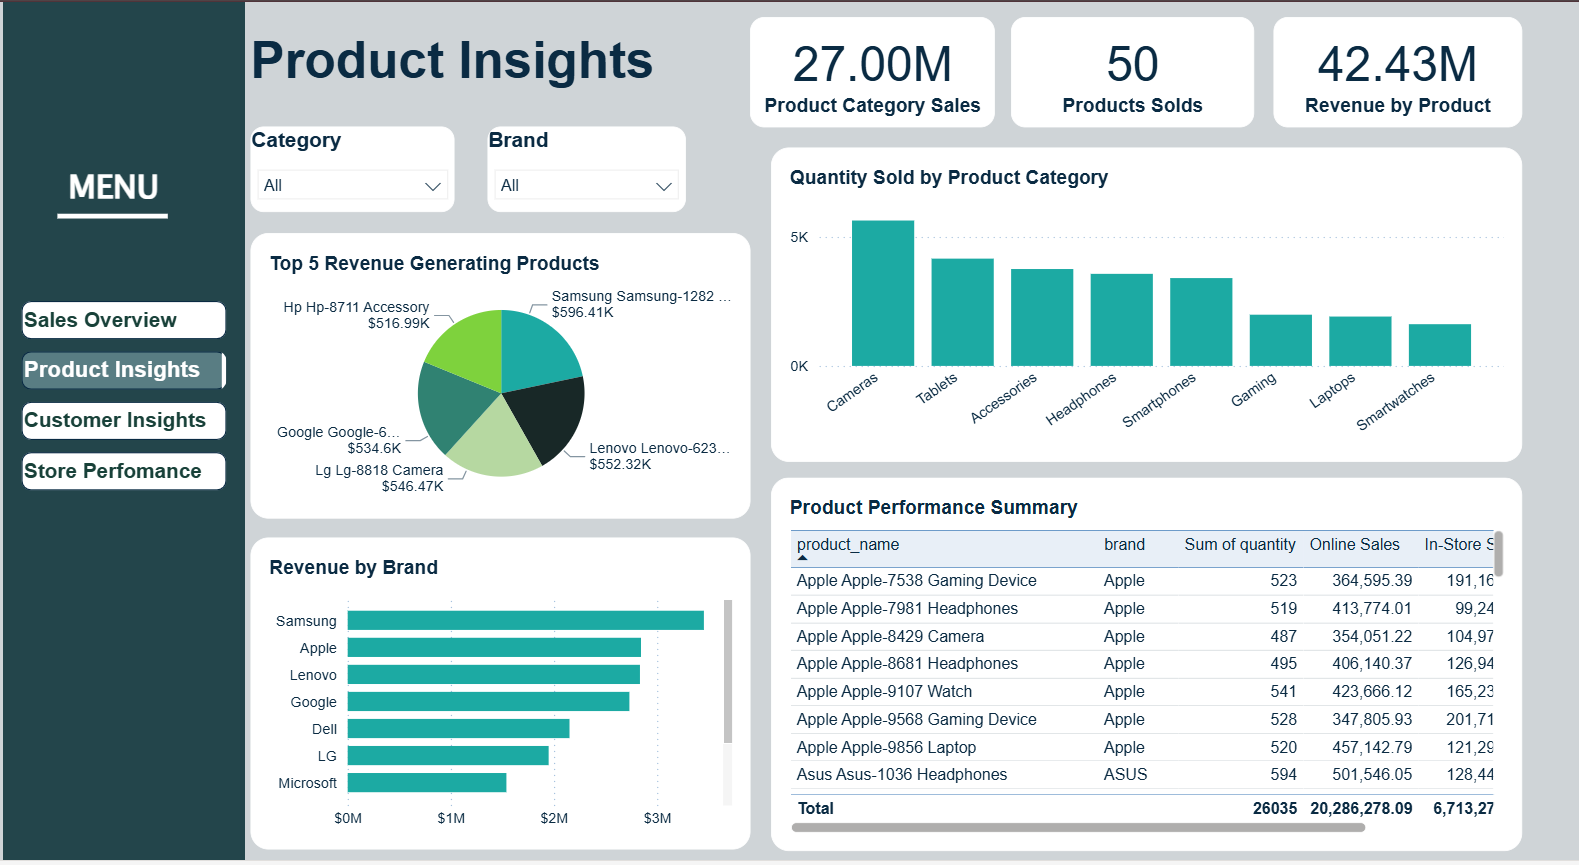

Layout of this report page (visuals, bound fields, positions):
{"tool":"powerbi","page":{"name":"Product Insights","canvas":[1280,720],"ordinal":1},"visuals":[{"type":"textbox","box":[0,0,201.3,720.5],"z":0,"group":"g1"},{"type":"tableEx","title":"Product Performance Summary","fields":{"Values":["Product.product_name","Product.brand","Sum(Sales.quantity)","Customer.Online Sales","Customer.In-Store Sales","Customer.Total Sales"]},"box":[639.7,396.4,626.1,311.4],"z":0},{"type":"barChart","title":"Revenue by Brand","fields":{"Category":["Product.brand"],"Y":["Sum(Sales.Revenue)"]},"box":[205.9,445.8,416.8,260.3],"z":1000},{"type":"columnChart","title":"Quantity Sold by Product Category","fields":{"Category":["Product.category"],"Y":["Sum(Sales.quantity)"]},"box":[639.7,120.8,626.1,262],"z":2000},{"type":"pieChart","title":"Top 5 Revenue Generating Products","fields":{"Y":["Sum(Sales.Revenue)"],"Category":["Product.product_name"]},"box":[205.9,192.3,416.8,238.2],"z":3000},{"type":"slicer","title":"Category","fields":{"Values":["Product.category"]},"box":[205.9,103.8,170.1,71.5],"z":4000},{"type":"slicer","title":"Brand","fields":{"Values":["Product.brand"]},"box":[403.2,103.8,165,71.5],"z":5000},{"type":"card","fields":{"Values":["Customer.Products Solds"]},"box":[839.9,12.9,202.8,92],"z":6000},{"type":"card","fields":{"Values":["Customer.Revenue by Product"]},"box":[1058.5,12.9,207.1,92],"z":7000},{"type":"card","fields":{"Values":["Customer.Product Category Sales"]},"box":[622.7,12.9,204.2,92],"z":8000},{"type":"textbox","box":[205.9,23.8,338.6,80],"z":9000},{"type":"group","id":"g1","title":"Group 1","box":[0,0,201.3,720.5],"z":10000},{"type":"shape","box":[30.2,139.5,122.2,76.2],"z":11000},{"type":"pageNavigator","box":[0,233.8,201.3,189.2],"z":11000,"group":"g1"},{"type":"textbox","box":[18.7,133.9,146.7,55.3],"z":12000,"group":"g1"}]}

Visuals, with their boxes in screenshot pixels (x1, y1, x2, y2), scaled from the page's 1280x720 canvas onto the 1579x865 screenshot:
textbox: (left=0, top=0, right=248, bottom=864)
"Product Performance Summary" tableEx: (left=789, top=476, right=1561, bottom=850)
"Revenue by Brand" barChart: (left=254, top=536, right=768, bottom=848)
"Quantity Sold by Product Category" columnChart: (left=789, top=145, right=1561, bottom=460)
"Top 5 Revenue Generating Products" pieChart: (left=254, top=231, right=768, bottom=517)
"Category" slicer: (left=254, top=125, right=464, bottom=211)
"Brand" slicer: (left=497, top=125, right=701, bottom=211)
card - Customer.Products Solds: (left=1036, top=15, right=1286, bottom=126)
card - Customer.Revenue by Product: (left=1306, top=15, right=1561, bottom=126)
card - Customer.Product Category Sales: (left=768, top=15, right=1020, bottom=126)
textbox: (left=254, top=29, right=672, bottom=125)
"Group 1" group: (left=0, top=0, right=248, bottom=864)
shape: (left=37, top=168, right=188, bottom=259)
pageNavigator: (left=0, top=281, right=248, bottom=508)
textbox: (left=23, top=161, right=204, bottom=227)
